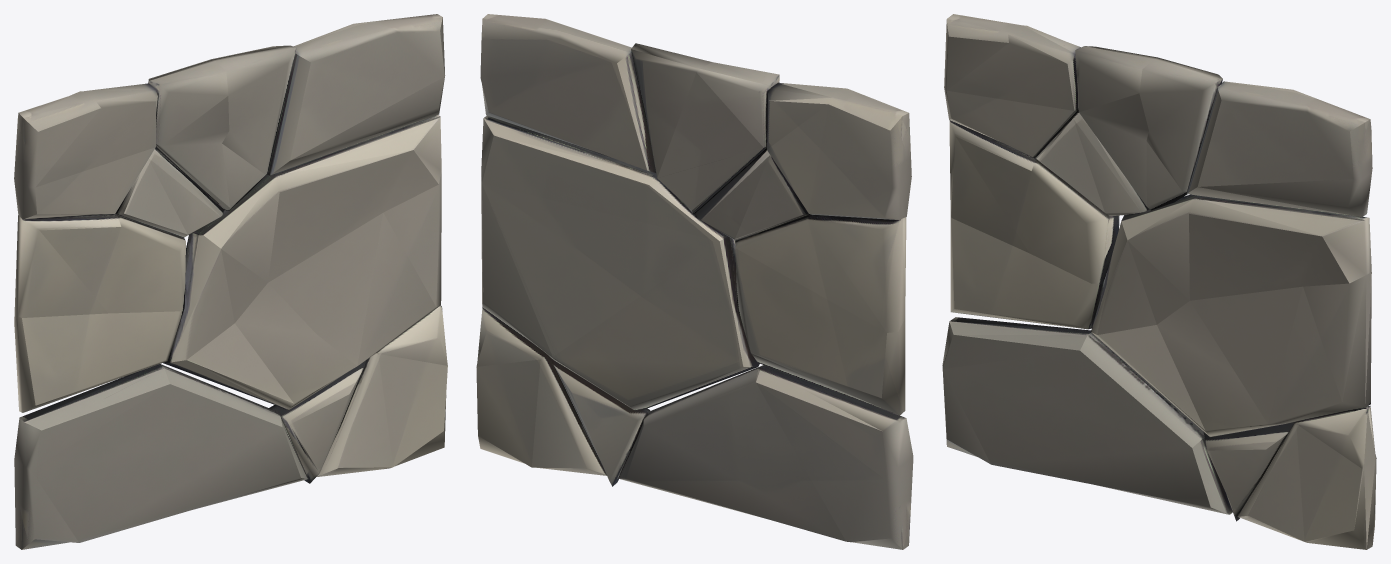
File: road_tile_c.glb
The picture shows the model from 3 angles, left to right: view 1: azimuth 30°, elevation 25°; view 2: azimuth 150°, elevation 25°; view 3: azimuth 330°, elevation 25°; orthographic projection.
Parts seen in each view (by area): view 1: mesh_node; view 2: mesh_node; view 3: mesh_node.
Boxes of the visible parts, x1,y1,x2,y2 form: mesh_node: [14, 14, 447, 549]; mesh_node: [476, 14, 913, 549]; mesh_node: [942, 14, 1376, 549].
Bounding box in the file's own units: 1 × 1 × 0.0852.
1 material, 1 textured.
